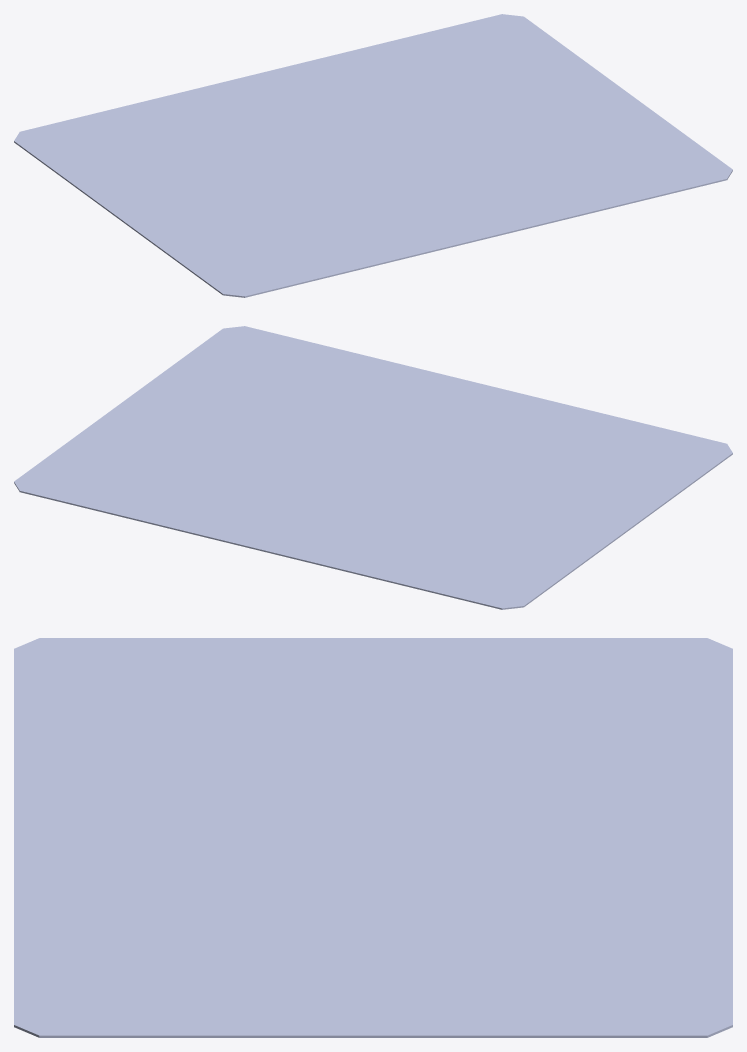
The model's file is groundAndRoof.fbx.
3 views of the same model, one above another, from view 1: azimuth 30°, elevation 25°; view 2: azimuth 150°, elevation 25°; view 3: azimuth 270°, elevation 25° (orthographic). The views are drawn at different scales.
Visible parts, largest first — view 1: Body_1; view 2: Body_1; view 3: Body_1.
Boxes of the visible parts, left/top/right/bottom form: Body_1: left=14, top=14, right=732, bottom=297; Body_1: left=14, top=326, right=732, bottom=609; Body_1: left=14, top=638, right=732, bottom=1037.
Bounding box in the file's own units: 3.69 × 2.82 × 0.01.
